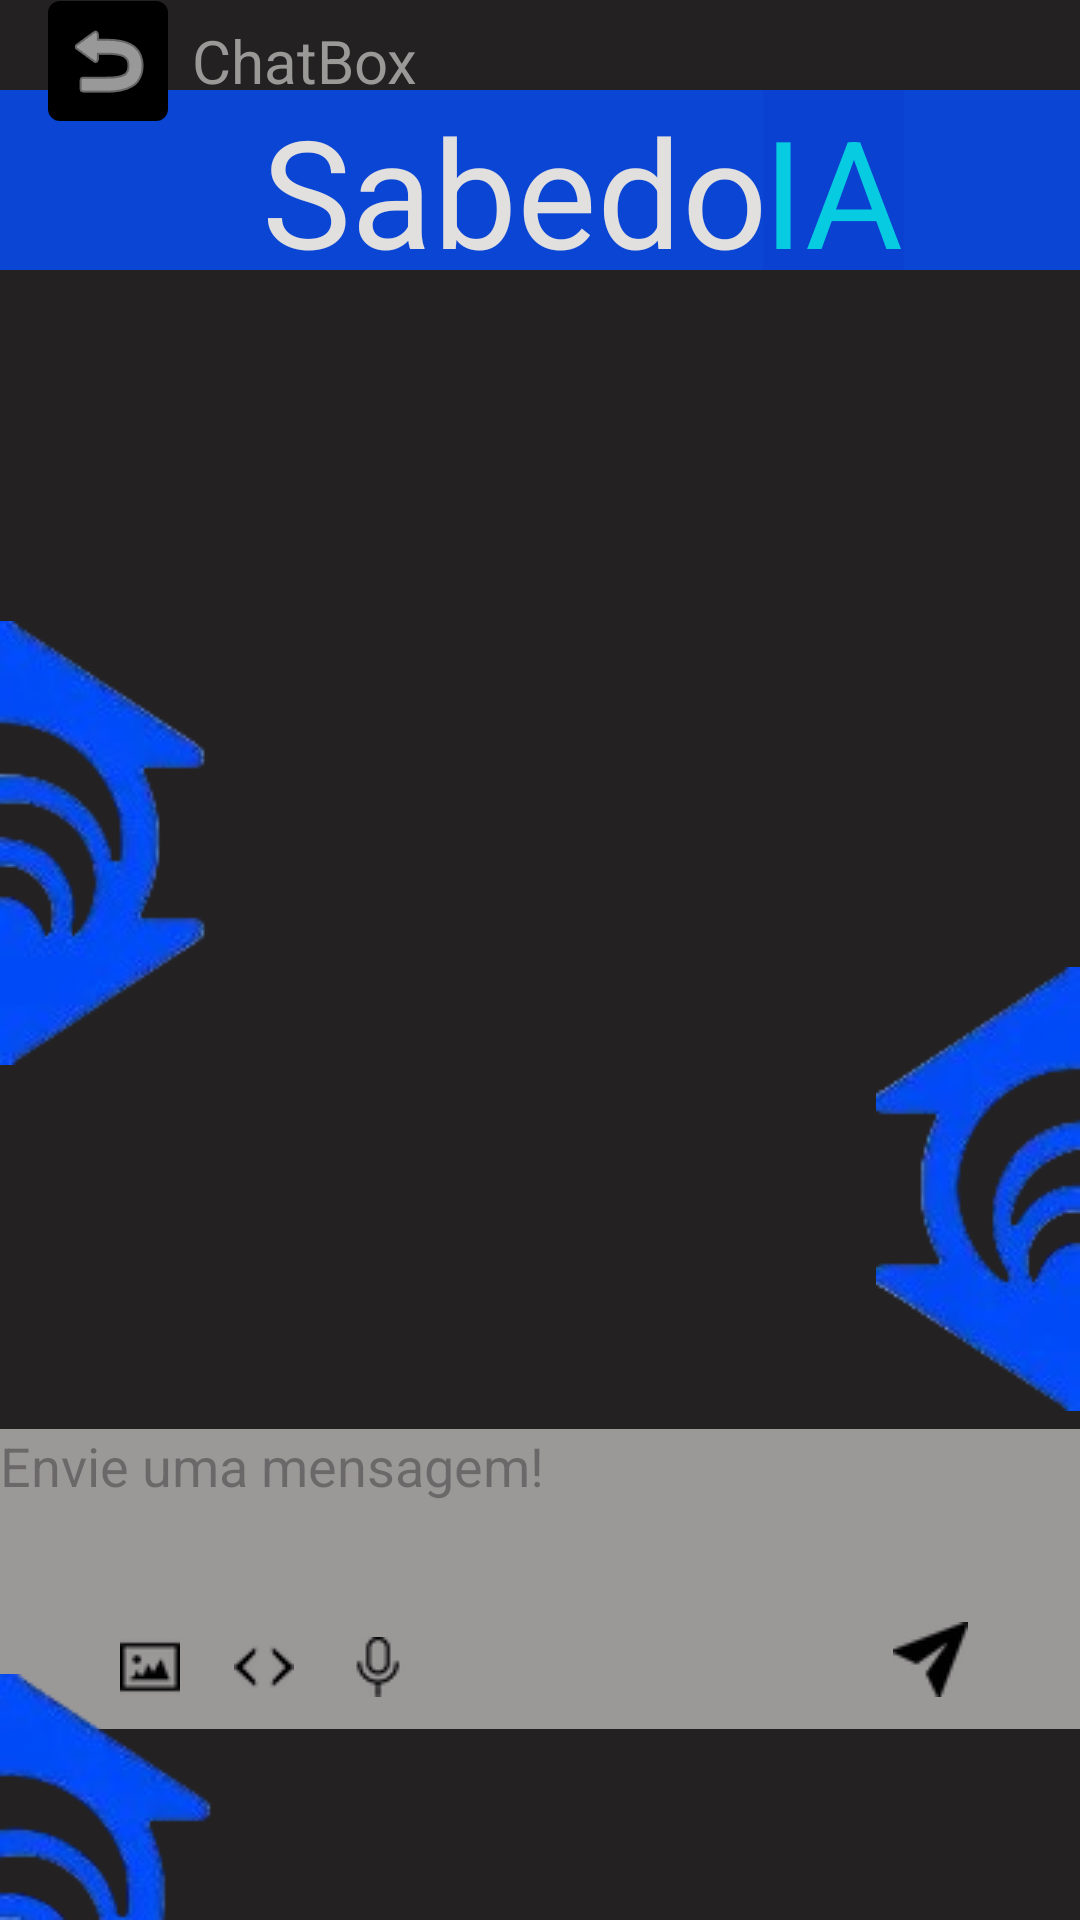

Icon click points for this 1080px×1920px phone screenshot, format point (x, y):
brackets: point (264, 1667)
microphone: point (378, 1667)
revert: point (108, 61)
send: point (930, 1659)
